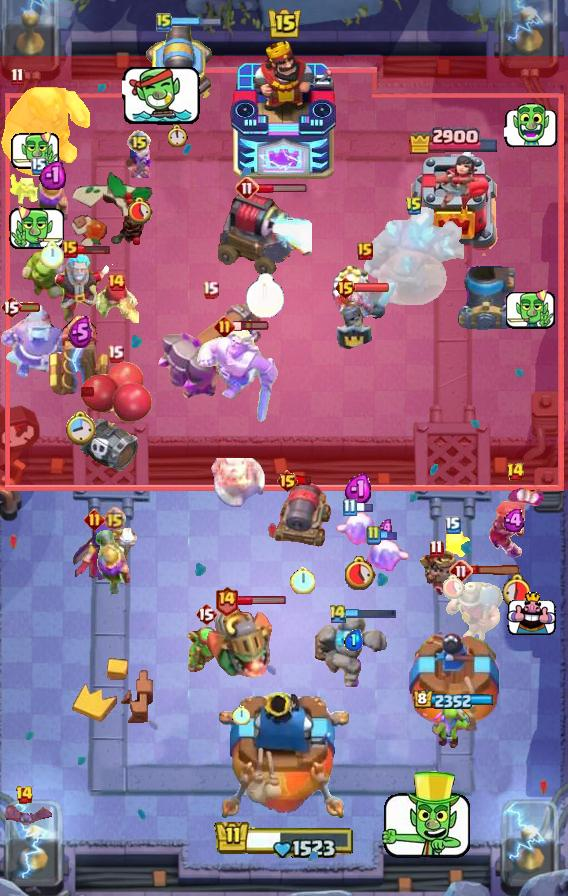axe: (211, 458, 267, 508)
bar: (346, 607, 398, 620), (170, 16, 221, 28), (470, 565, 522, 576), (236, 595, 287, 606), (257, 183, 308, 194), (233, 320, 270, 332), (6, 301, 42, 313), (76, 243, 111, 255), (354, 282, 390, 293), (355, 501, 374, 513), (379, 530, 398, 541), (296, 475, 313, 486)
bar-level: (214, 585, 239, 616), (449, 559, 473, 583), (235, 176, 259, 200), (127, 130, 151, 154), (276, 469, 299, 493), (334, 276, 357, 300), (103, 507, 126, 530), (195, 602, 217, 626), (0, 295, 22, 319), (84, 509, 105, 530), (214, 316, 235, 337), (328, 603, 348, 624), (106, 272, 126, 292), (15, 785, 34, 805), (506, 462, 525, 482), (405, 196, 423, 216), (107, 344, 124, 363), (202, 280, 219, 299), (365, 525, 381, 545), (156, 12, 172, 32), (445, 516, 461, 534), (357, 242, 373, 260), (62, 240, 78, 258), (31, 157, 47, 175), (429, 539, 444, 558), (342, 498, 357, 517), (10, 67, 25, 86)
bat: (0, 805, 54, 829)
bomber: (93, 281, 139, 323)
clock: (245, 273, 285, 319), (342, 555, 376, 590), (65, 411, 96, 447), (501, 573, 530, 607), (126, 196, 153, 224), (290, 566, 315, 594), (40, 241, 64, 269), (441, 574, 465, 599), (168, 124, 188, 147), (232, 705, 250, 725)
elixir: (344, 473, 374, 506), (39, 159, 66, 190), (68, 316, 93, 348), (503, 509, 527, 532), (344, 629, 363, 651), (378, 519, 395, 537)
emote: (377, 770, 475, 864), (122, 63, 201, 126), (7, 202, 65, 252), (504, 103, 558, 148), (505, 286, 557, 331), (507, 592, 556, 636), (11, 128, 61, 171)
goblin: (429, 698, 471, 750)
goblin-brawler: (18, 247, 78, 303)
golemite: (315, 615, 391, 693)
guard: (336, 291, 384, 353)
ice-spirit-evolution: (361, 539, 411, 577), (334, 511, 384, 549)
ice-wizard: (37, 252, 121, 326)
king-tower: (219, 692, 349, 826), (230, 41, 338, 181)
king-tower-bar: (214, 817, 354, 858)
little-prince: (410, 551, 463, 603)
miner: (445, 576, 507, 646)
mortar: (456, 266, 516, 330)
musketeer: (94, 530, 134, 594), (35, 169, 69, 223)
queen-tower: (408, 152, 498, 256), (407, 633, 499, 731)
royal-ghost: (331, 264, 399, 332)
skeleton: (434, 524, 472, 560), (10, 172, 40, 206)
skeleton-evolution: (126, 144, 153, 178)
spear-goblin: (185, 626, 227, 672)
tesla: (46, 312, 114, 398)
tower-bar: (407, 125, 500, 154), (413, 690, 494, 711)
valkyrie-evolution: (486, 485, 544, 559)
witch: (70, 521, 146, 583)
